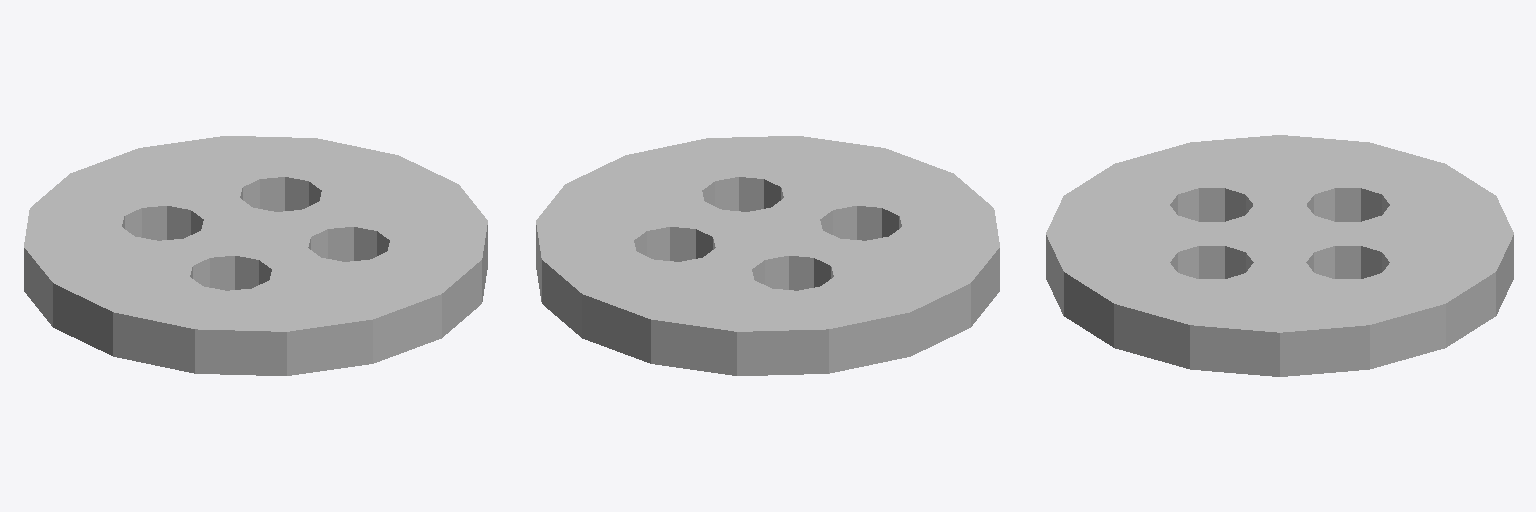
Rendered from ShirtButton1.obj.
3 renders of one model, left to right at view 1: azimuth 30°, elevation 25°; view 2: azimuth 150°, elevation 25°; view 3: azimuth 270°, elevation 25°, orthographic.
Parts seen in each view (by area): view 1: ShirtButton1; view 2: ShirtButton1; view 3: ShirtButton1.
Boxes of the visible parts, <box> form: ShirtButton1: <box>24,136,487,375</box>; ShirtButton1: <box>536,136,999,375</box>; ShirtButton1: <box>1046,135,1513,376</box>.
Bounding box in the file's own units: 1 × 0.1046 × 1.